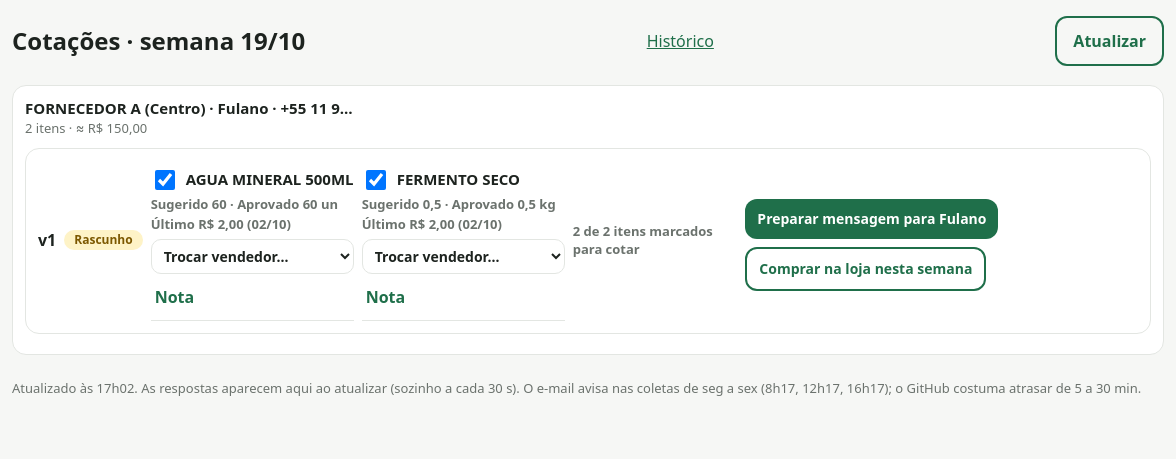
Test: Cotações — rascunho e Preparar › checagem de saúde que falha: mostra o erro e não oferece o WhatsApp
Click the button "Preparar mensagem para Fulano": (872, 219) [745,199,998,239]
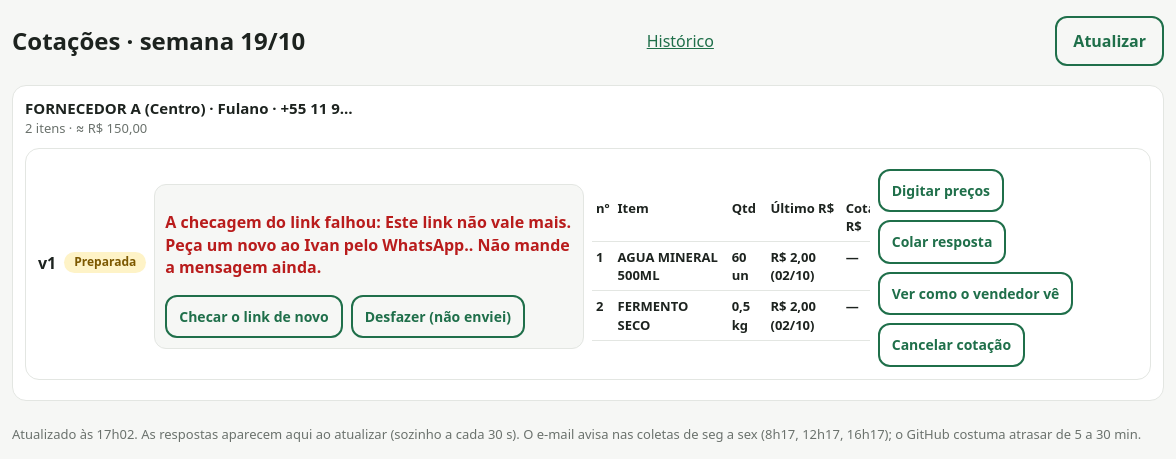
Expected: the text "A checagem do link falhou: Este link não vale mais" is shown, [165,211,573,279]
